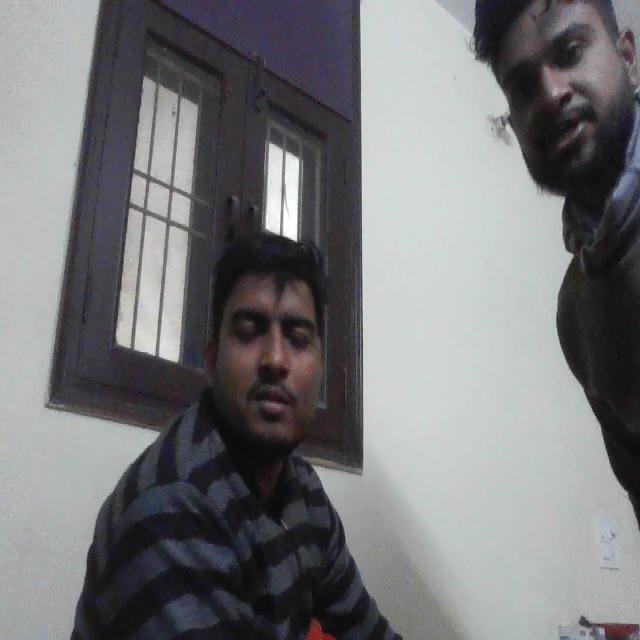real: (500, 0, 636, 257), (207, 215, 335, 456)
